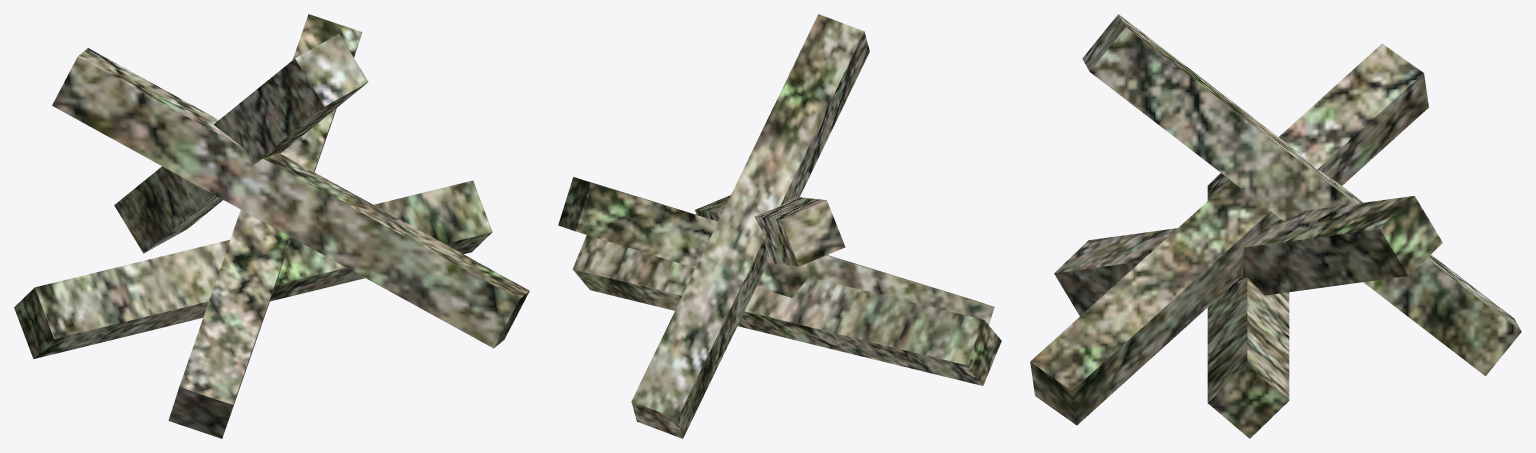
File: Logs.glb
The picture shows the model from 3 angles, left to right: view 1: azimuth 30°, elevation 25°; view 2: azimuth 150°, elevation 25°; view 3: azimuth 270°, elevation 25°; orthographic projection. The views are drawn at different scales.
Visible parts, largest first — view 1: Cube; view 2: Cube; view 3: Cube.
Boxes of the visible parts, x1=… form: Cube: x1=14, y1=14, x2=529, y2=438; Cube: x1=558, y1=14, x2=1001, y2=438; Cube: x1=1030, y1=14, x2=1521, y2=438.
Bounding box in the file's own units: 2.97 × 2.3 × 2.83.
1 material, 1 textured.
